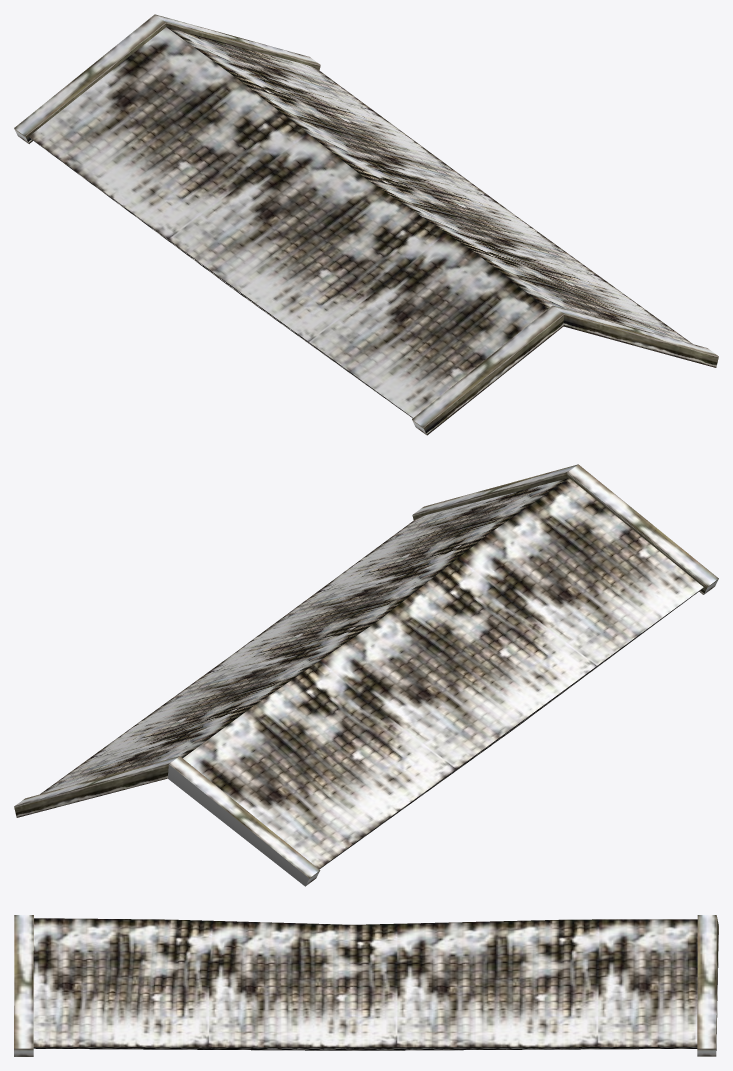
The model's file is fangd04.obj.
The picture shows the model from 3 angles, top to bottom: view 1: azimuth 30°, elevation 25°; view 2: azimuth 150°, elevation 25°; view 3: azimuth 270°, elevation 25°; orthographic projection. The views are drawn at different scales.
Visible parts, largest first — view 1: fangd04; view 2: fangd04; view 3: fangd04.
Boxes of the visible parts, <box> form: fangd04: <box>14,14,718,435</box>; fangd04: <box>14,464,718,886</box>; fangd04: <box>14,915,718,1056</box>.
Size of the model in its own units: 97.97 by 28.9 by 236.
